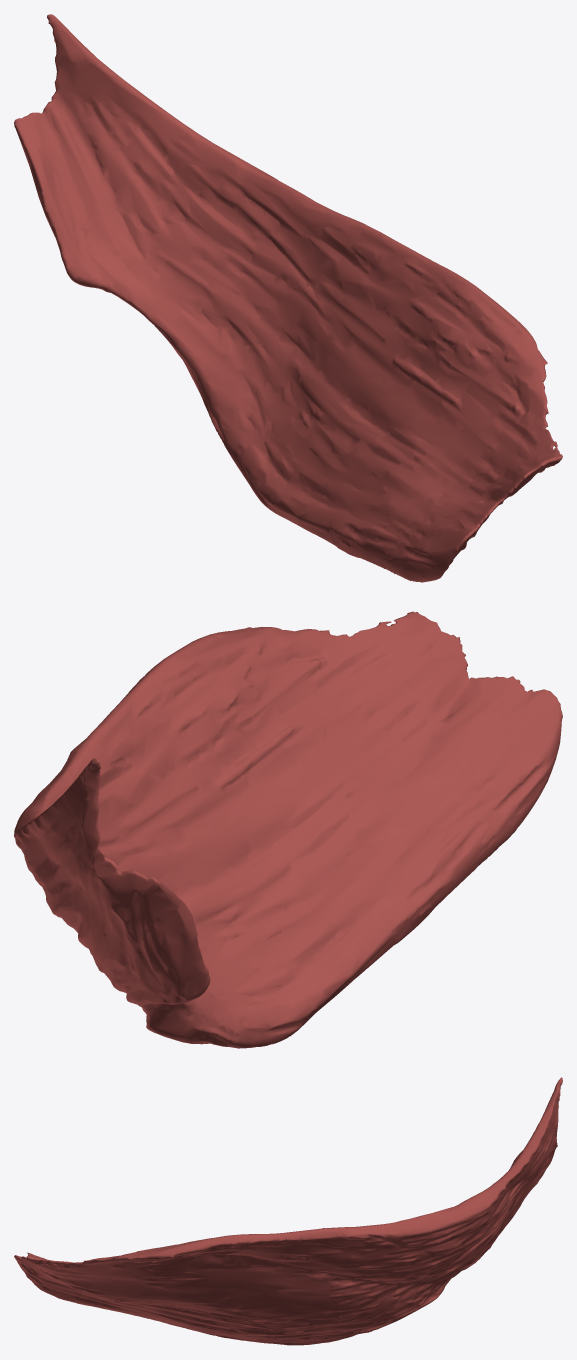
Rendered from FMA45855.glb.
The picture shows the model from 3 angles, top to bottom: view 1: azimuth 30°, elevation 25°; view 2: azimuth 150°, elevation 25°; view 3: azimuth 270°, elevation 25°; orthographic projection. The views are drawn at different scales.
Visible parts, largest first — view 1: FMA45855; view 2: FMA45855; view 3: FMA45855.
Part boxes in pixels (x1,y1,x2,y2): FMA45855: (14, 14, 562, 582); FMA45855: (14, 611, 562, 1048); FMA45855: (14, 1077, 562, 1345).
Size of the model in its own units: 0.0321 by 0.0466 by 0.0906.
